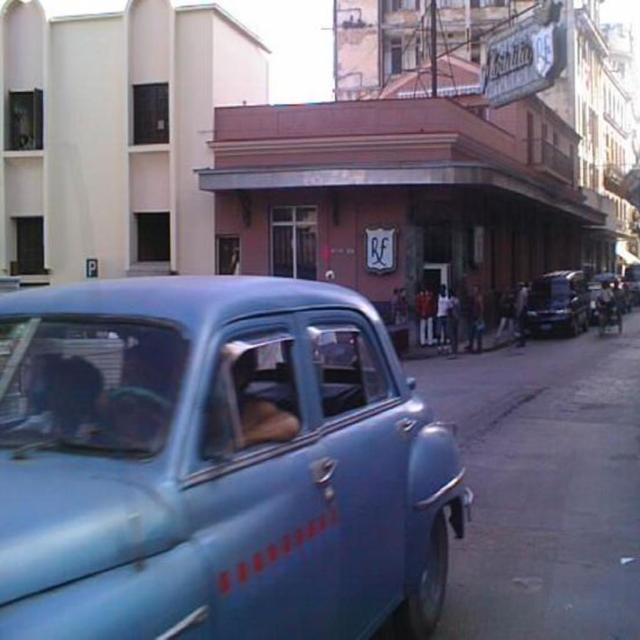Car: (0, 270, 474, 640), (526, 269, 590, 338), (590, 269, 628, 319)
